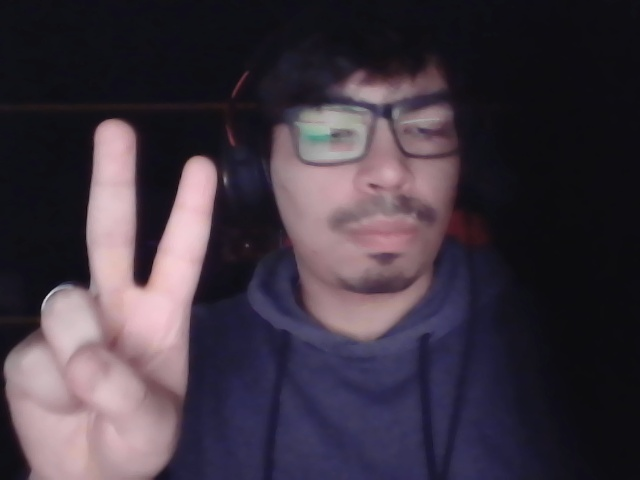two: (1, 97, 250, 478)
